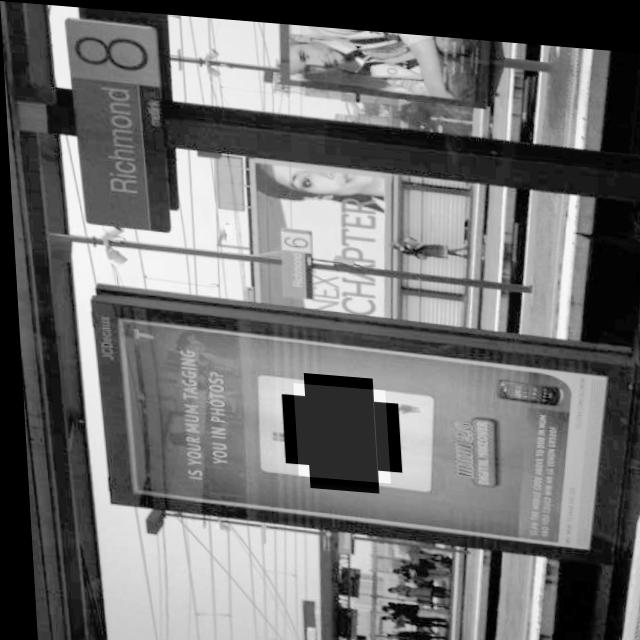qr_code: (289, 377, 385, 476)
